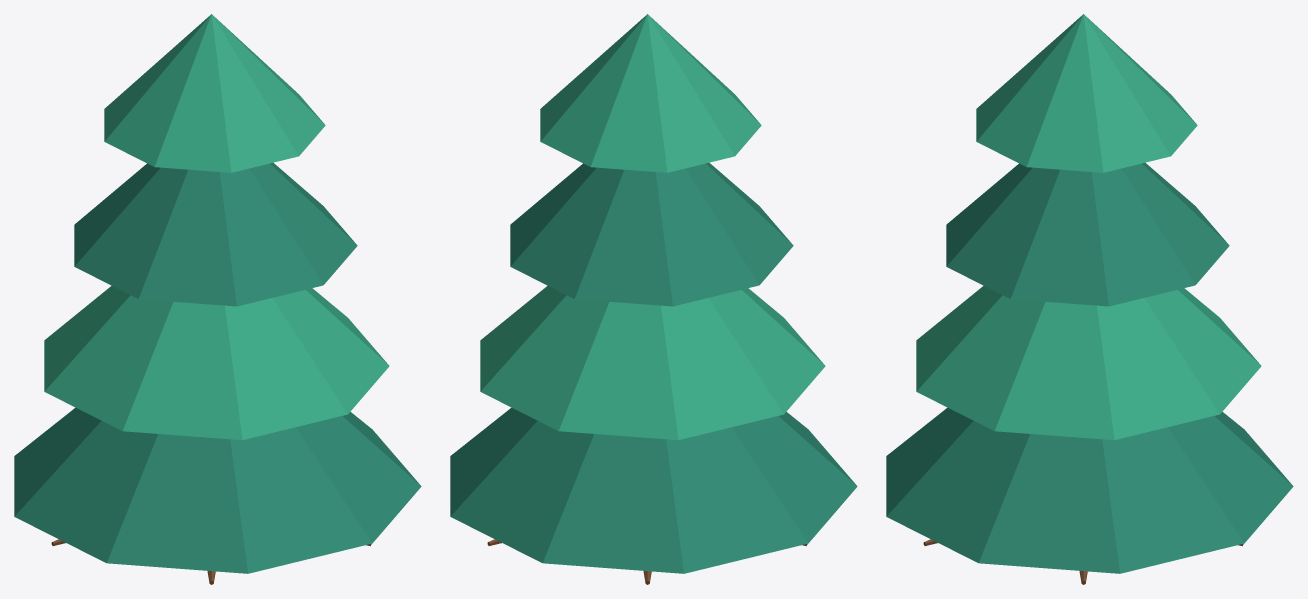
File: growing.glb
The picture shows the model from 3 angles, left to right: view 1: azimuth 30°, elevation 25°; view 2: azimuth 150°, elevation 25°; view 3: azimuth 270°, elevation 25°; orthographic projection.
Visible parts, largest first — view 1: Needle_Tier_01, Needle_Tier_02, Needle_Tier_03, Needle_Tier_04; view 2: Needle_Tier_01, Needle_Tier_02, Needle_Tier_03, Needle_Tier_04; view 3: Needle_Tier_01, Needle_Tier_02, Needle_Tier_03, Needle_Tier_04.
Boxes of the visible parts, left/top/right/bottom form: Needle_Tier_01: left=14, top=407, right=421, bottom=573; Needle_Tier_02: left=44, top=285, right=389, bottom=440; Needle_Tier_03: left=74, top=162, right=357, bottom=306; Needle_Tier_04: left=104, top=14, right=325, bottom=172; Needle_Tier_01: left=450, top=407, right=857, bottom=573; Needle_Tier_02: left=480, top=285, right=825, bottom=440; Needle_Tier_03: left=510, top=162, right=793, bottom=306; Needle_Tier_04: left=540, top=14, right=761, bottom=172; Needle_Tier_01: left=886, top=407, right=1293, bottom=573; Needle_Tier_02: left=916, top=285, right=1261, bottom=440; Needle_Tier_03: left=946, top=162, right=1229, bottom=306; Needle_Tier_04: left=976, top=14, right=1197, bottom=172.
Bounding box in the file's own units: 2.09 × 2.75 × 2.05.
